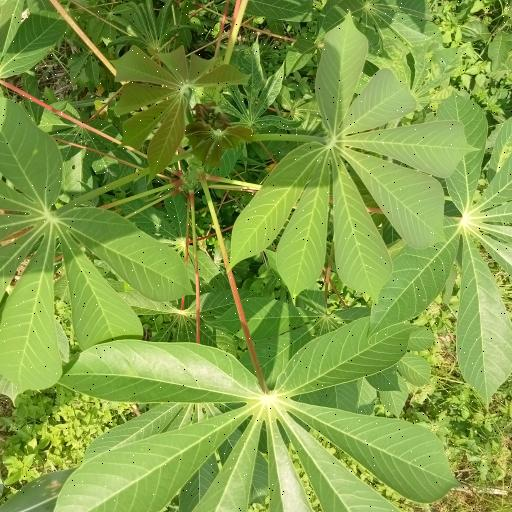Cassava_Healthy: (64, 317, 471, 510), (227, 25, 458, 306), (4, 84, 190, 388)
